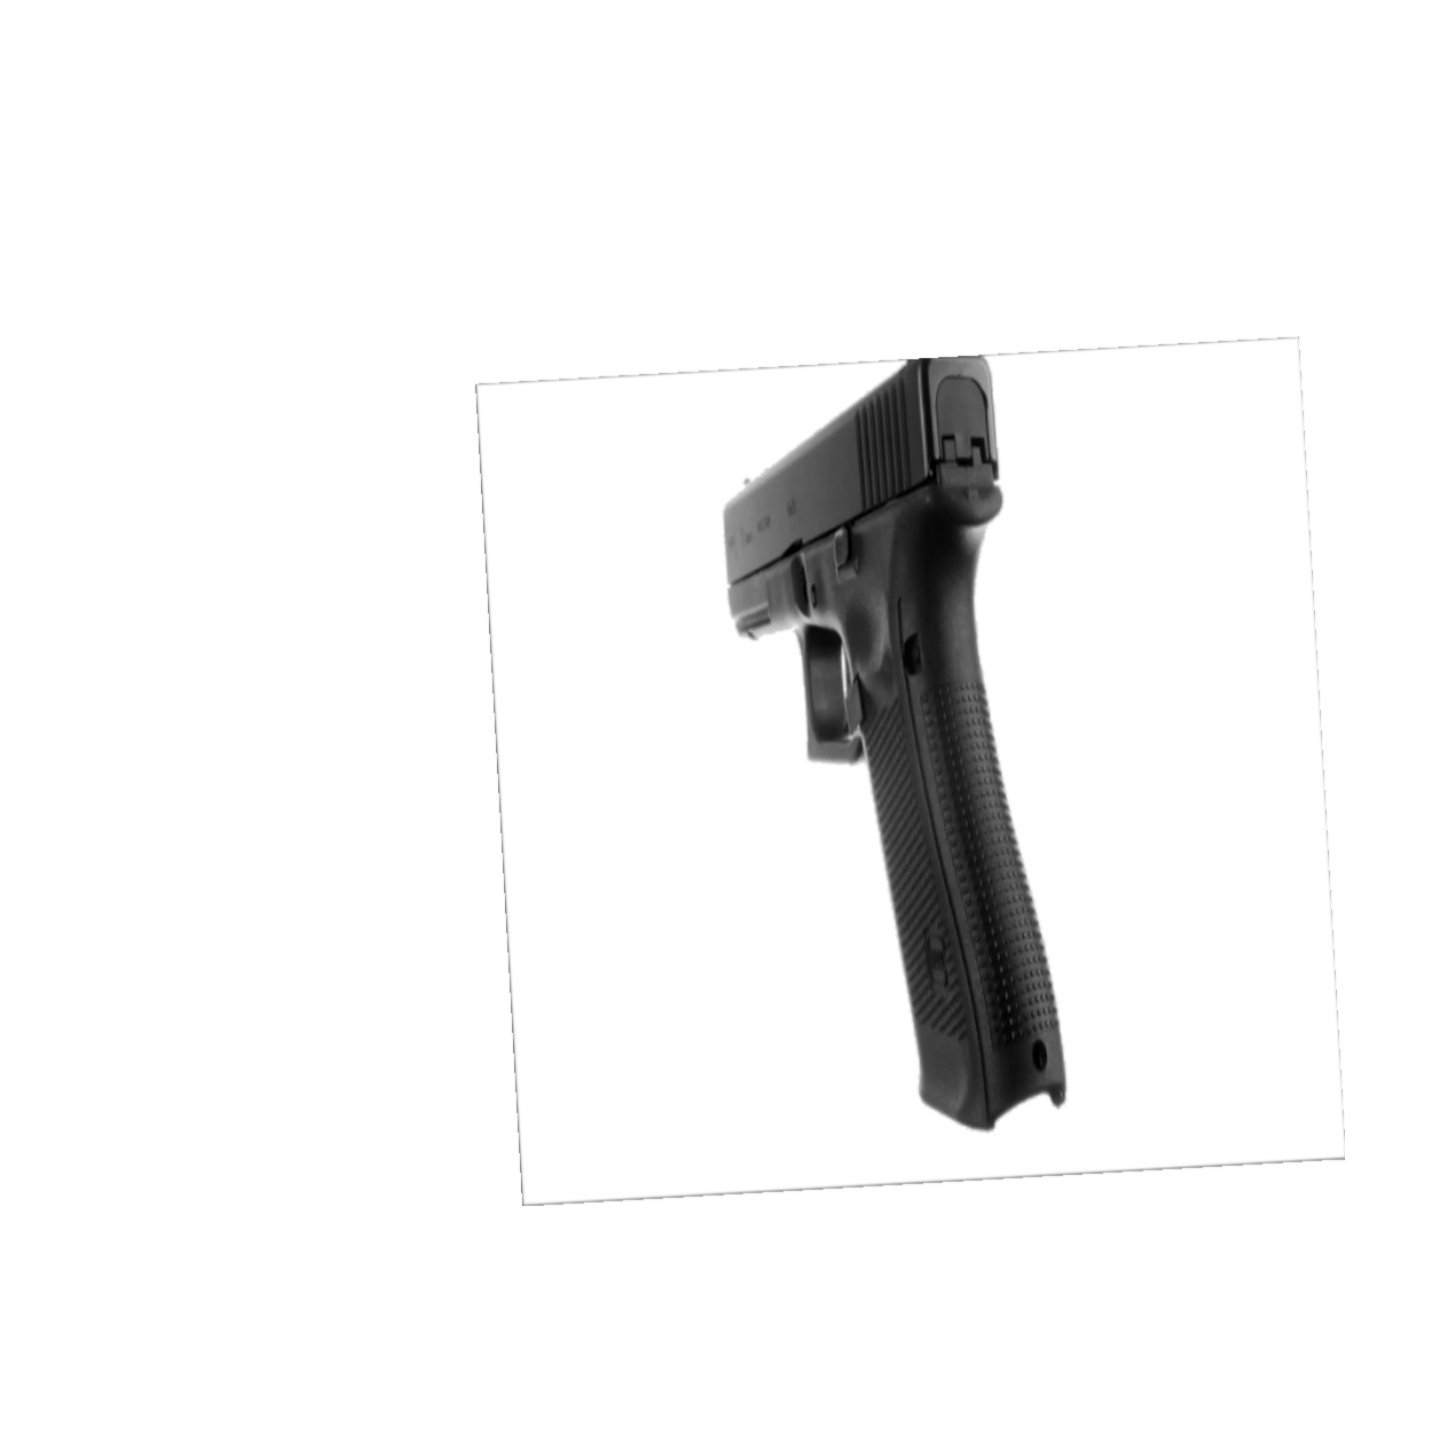gun: (705, 358, 1098, 1140)
